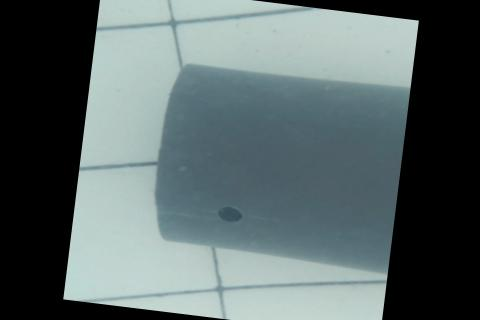kebocoran: (212, 203, 243, 224)
